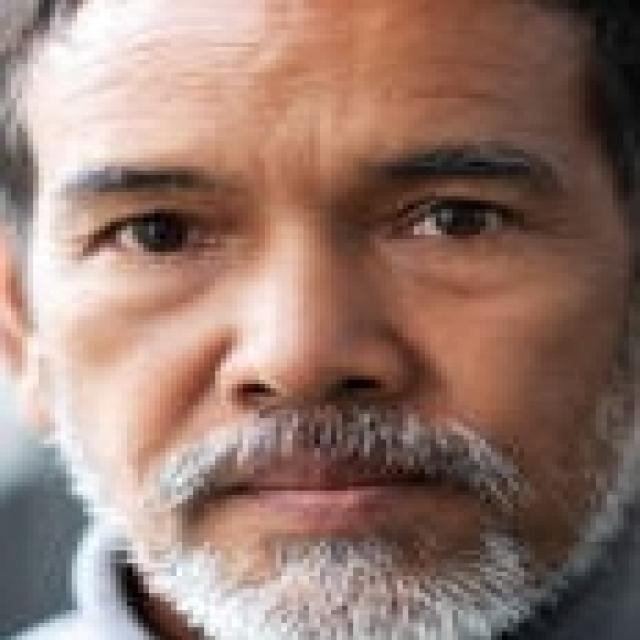Anxiety: (25, 0, 634, 636)
